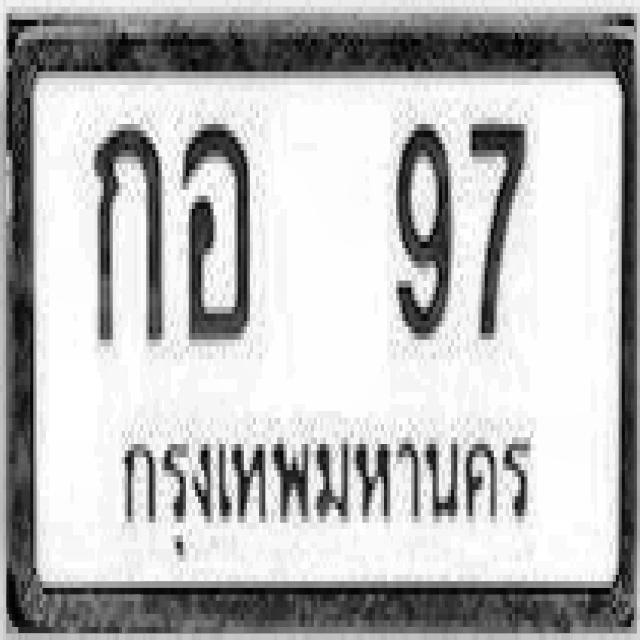license-plate: (17, 27, 632, 625)
